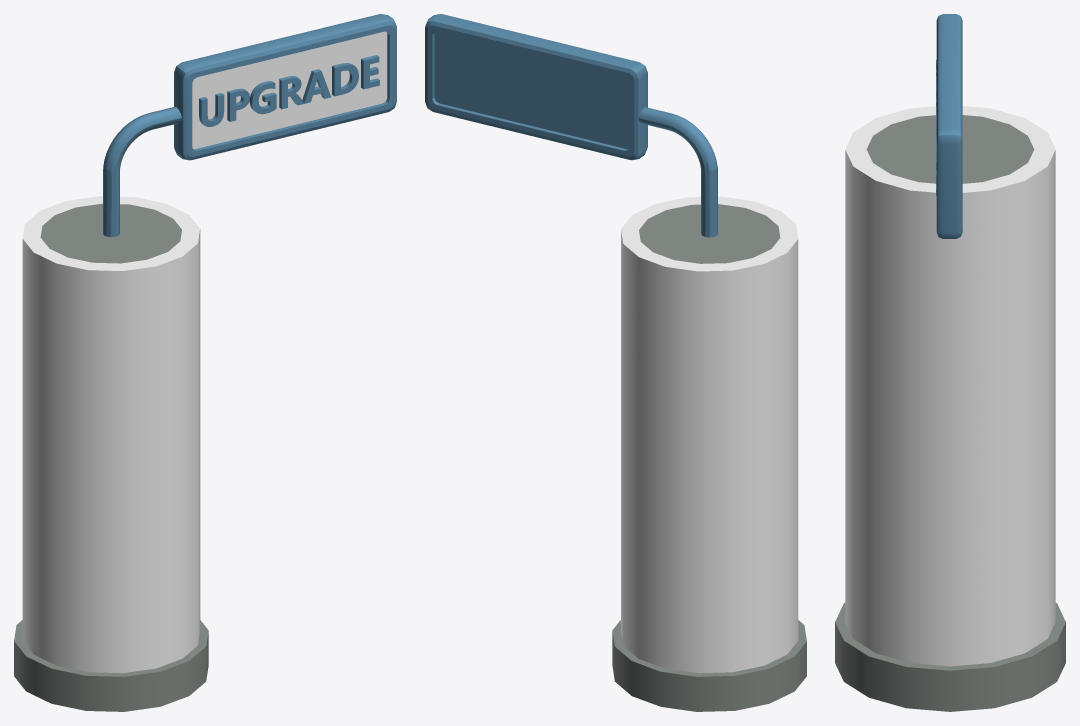
The model's file is Upgrade_Poster.fbx.
3 views of the same model, side by side, from view 1: azimuth 30°, elevation 25°; view 2: azimuth 150°, elevation 25°; view 3: azimuth 270°, elevation 25° (orthographic). The views are drawn at different scales.
Parts seen in each view (by area): view 1: polySurface11, polySurface4, Upgrade; view 2: polySurface11, polySurface4; view 3: polySurface11, polySurface4.
Boxes of the visible parts, left/top/right/bottom form: polySurface11: left=14, top=196, right=208, bottom=711; polySurface4: left=103, top=14, right=396, bottom=237; Upgrade: left=199, top=55, right=379, bottom=126; polySurface11: left=612, top=196, right=806, bottom=711; polySurface4: left=425, top=14, right=717, bottom=237; polySurface11: left=835, top=106, right=1065, bottom=711; polySurface4: left=936, top=14, right=962, bottom=238.
Bounding box in the file's own units: 209 × 320 × 96.81.
1 material, 1 textured.
